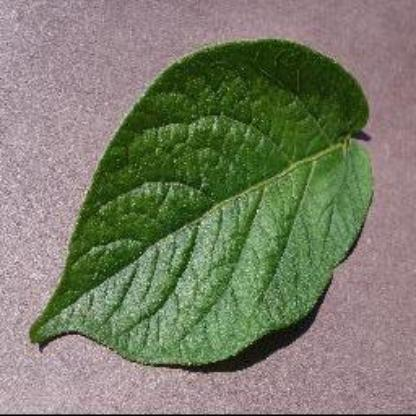Healthy-plant: (25, 32, 382, 376)
